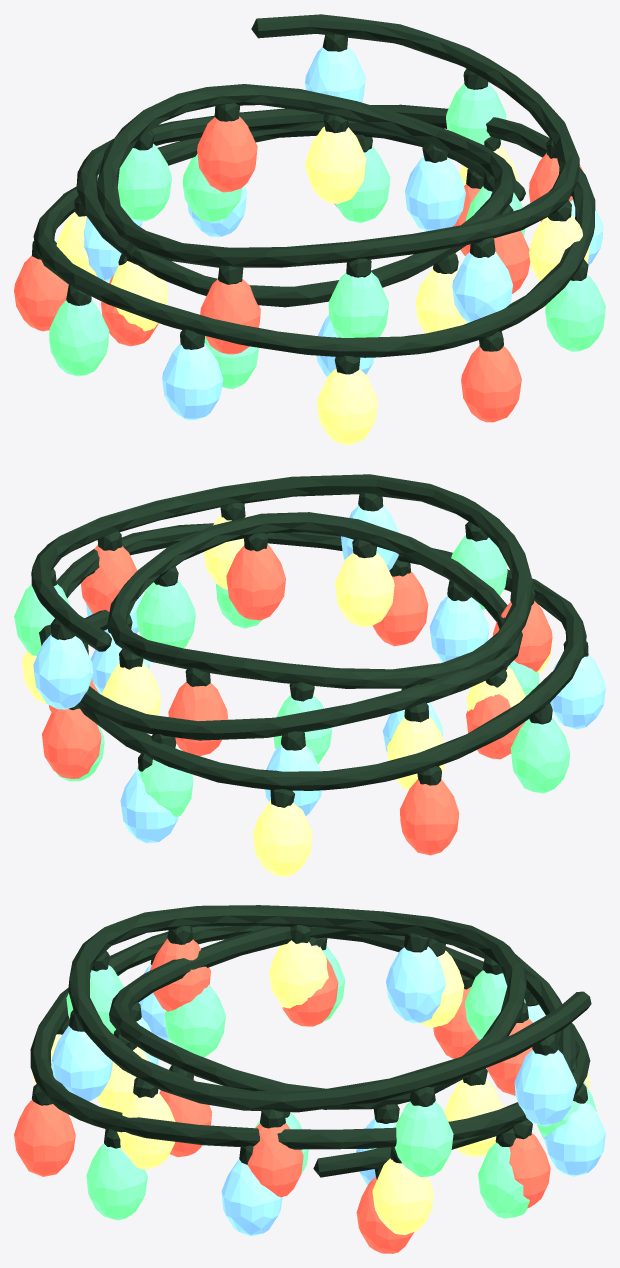
Rendered from Pieza_Guirnalda.glb.
3 renders of one model, top to bottom at view 1: azimuth 30°, elevation 25°; view 2: azimuth 150°, elevation 25°; view 3: azimuth 270°, elevation 25°, orthographic. The views are drawn at different scales.
Visible parts, largest first — view 1: Pieza_Guirnalda; view 2: Pieza_Guirnalda; view 3: Pieza_Guirnalda.
Part boxes in pixels (x1,y1,x2,y2): Pieza_Guirnalda: (14,14,605,445); Pieza_Guirnalda: (14,474,605,876); Pieza_Guirnalda: (14,905,605,1253).
Bounding box in the file's own units: 0.4073 × 0.1611 × 0.402.
